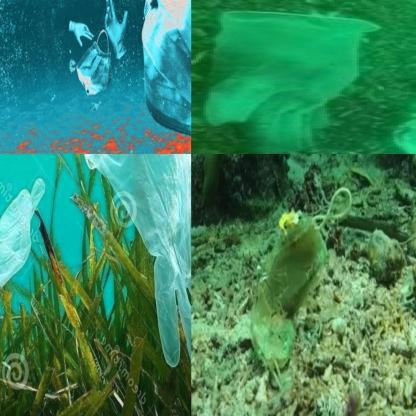Mask: (249, 188, 353, 390), (122, 0, 191, 150), (68, 29, 119, 102)
glove: (203, 6, 384, 153), (76, 154, 191, 379), (0, 168, 47, 366), (99, 0, 132, 62), (68, 14, 96, 49)
